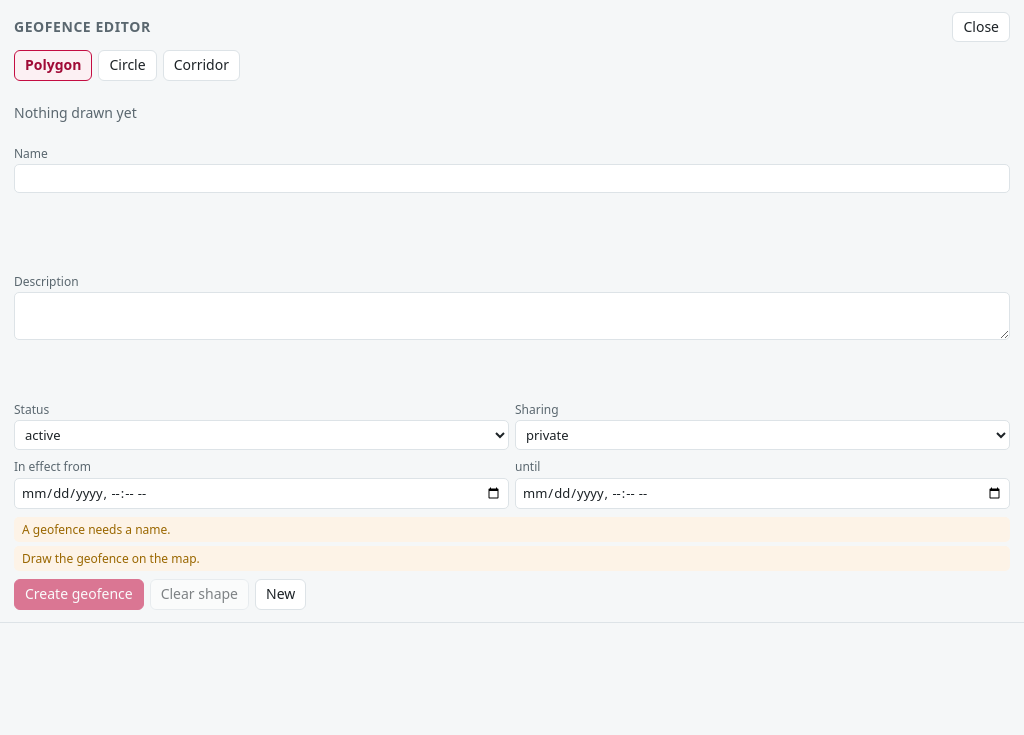
it: GeofenceEditor › creates a geofence from the definition that was drawn
The image size is (1024, 735).
Step 1. Click the button "Circle" → (128, 65), box 98,50 -> 157,81
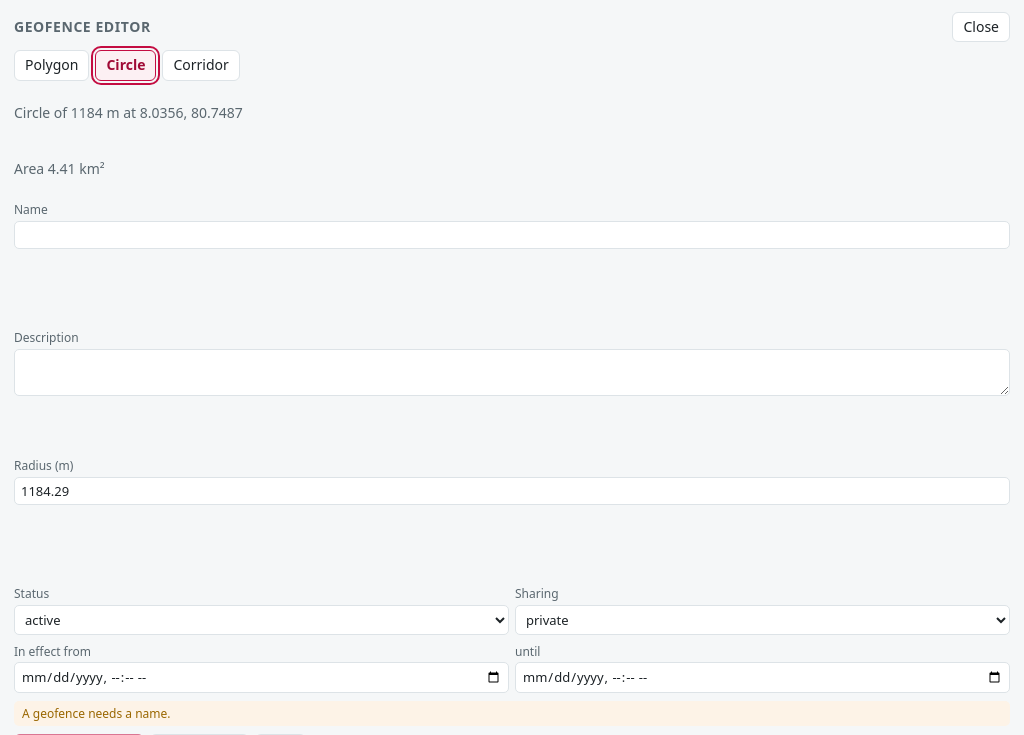
Step 2. Type "Habarana junction watch zone" into the field labelled "Name" → (512, 235), box 14,221 -> 1010,249
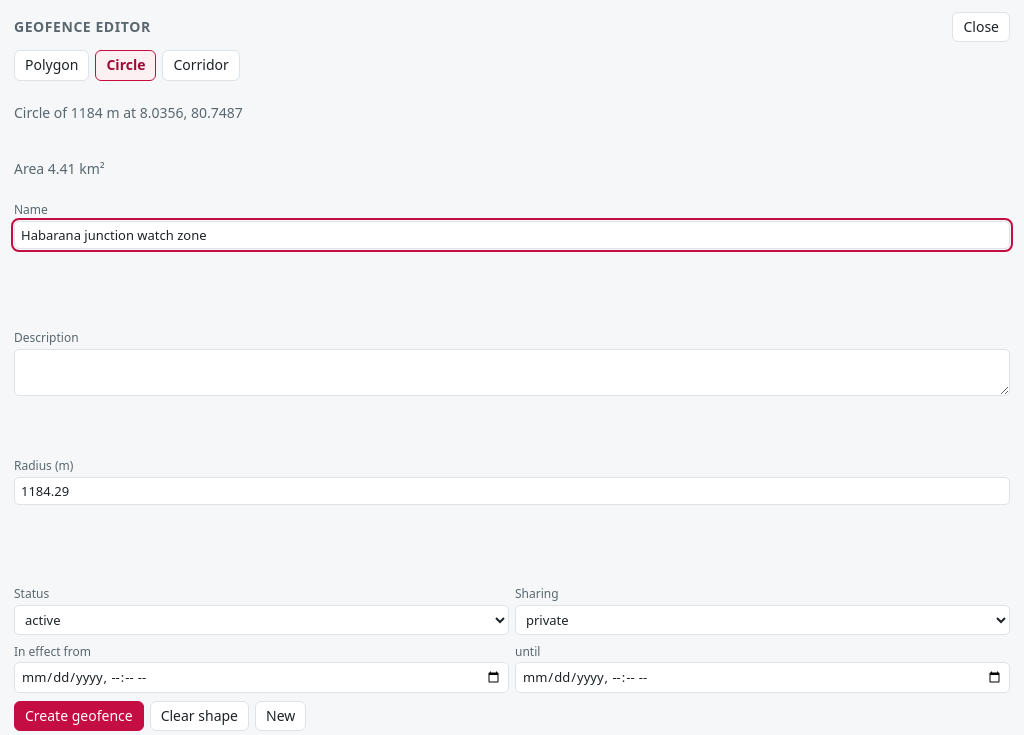
Step 3. Clear the number field labelled "Radius (m)" → (512, 491), box 14,477 -> 1010,505
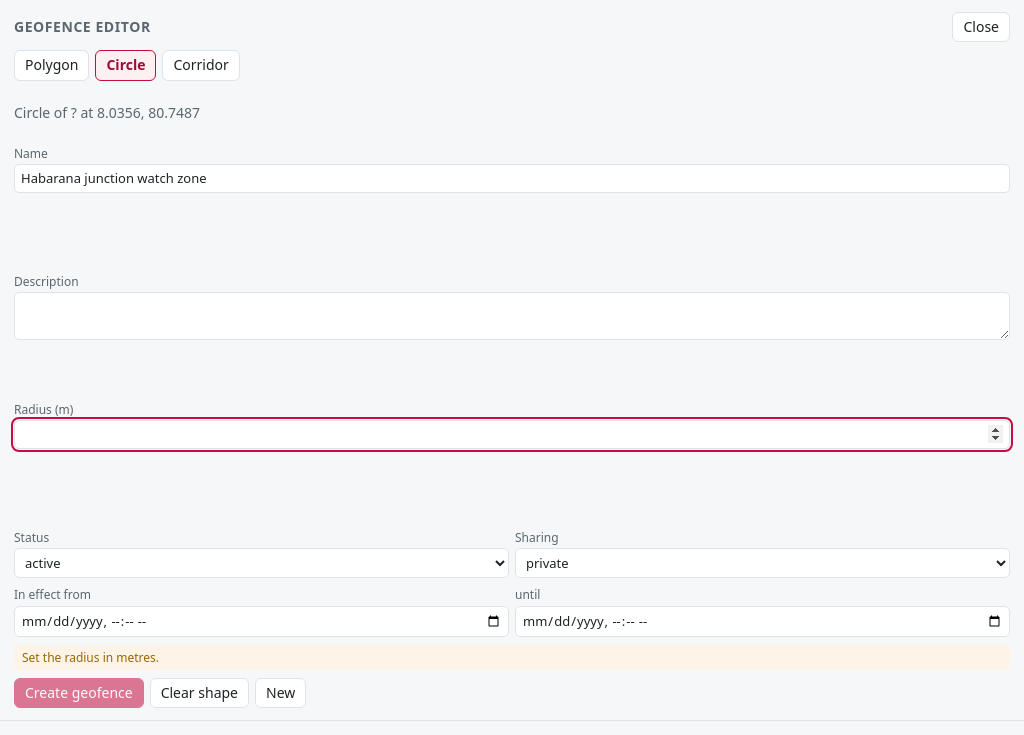
Step 4. Type "750" into the number field labelled "Radius (m)" → (512, 435), box 14,420 -> 1010,449
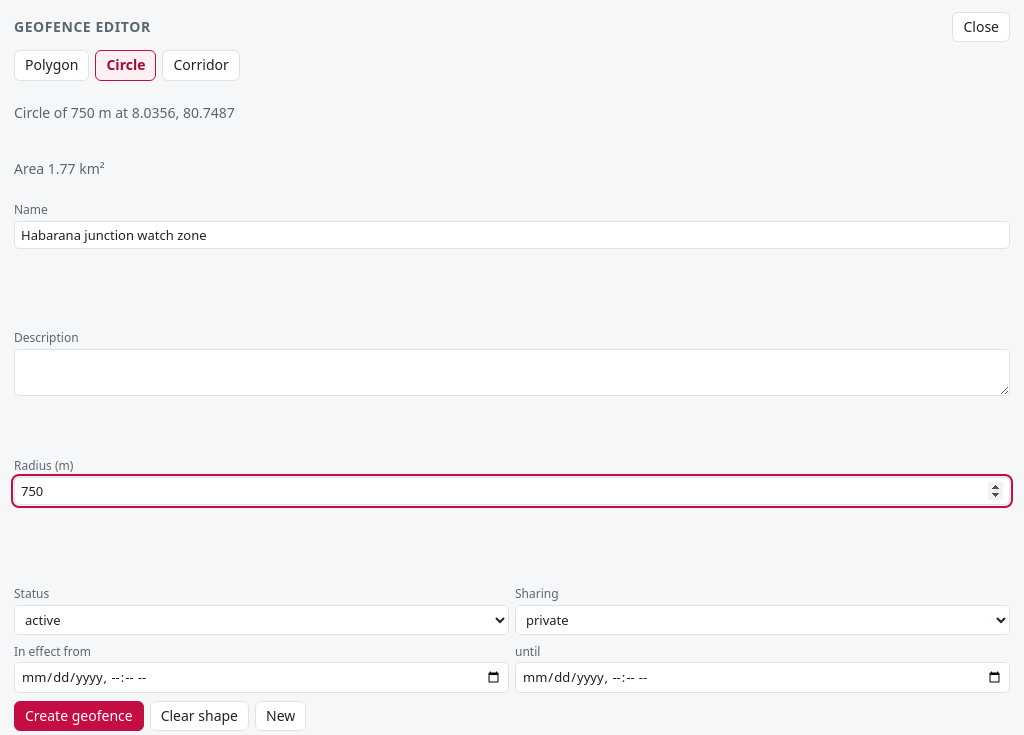
Step 5. Click the button "Create geofence" → (79, 716), box 14,701 -> 144,731
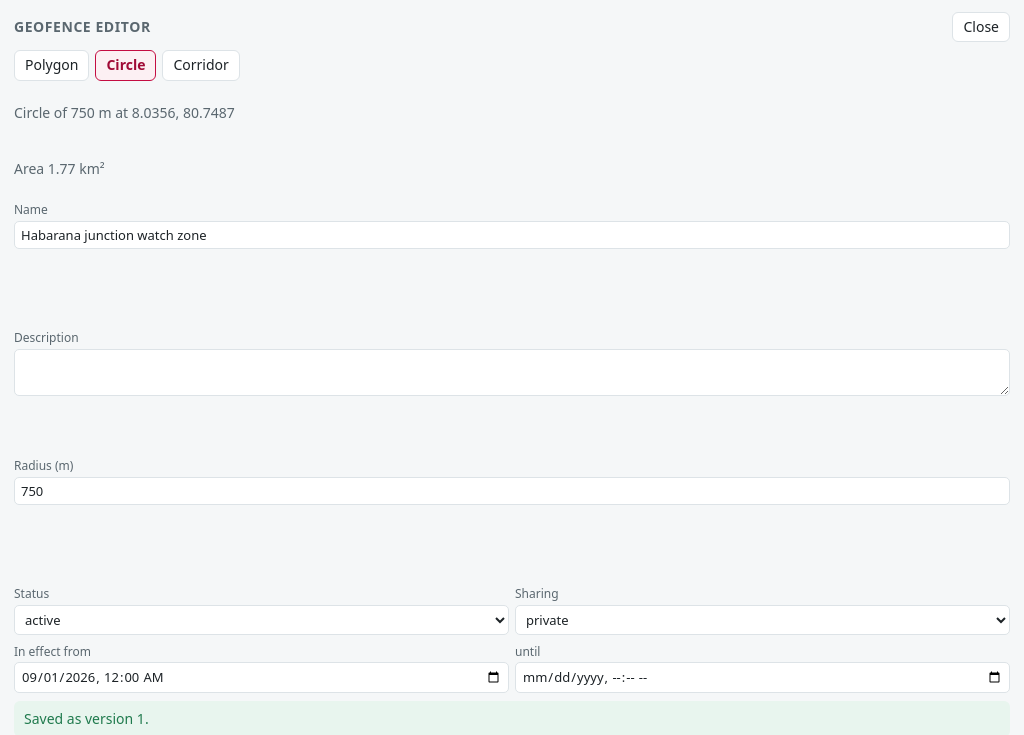
Now the message reads "Saved as version 1.", box 24,709 -> 149,728
